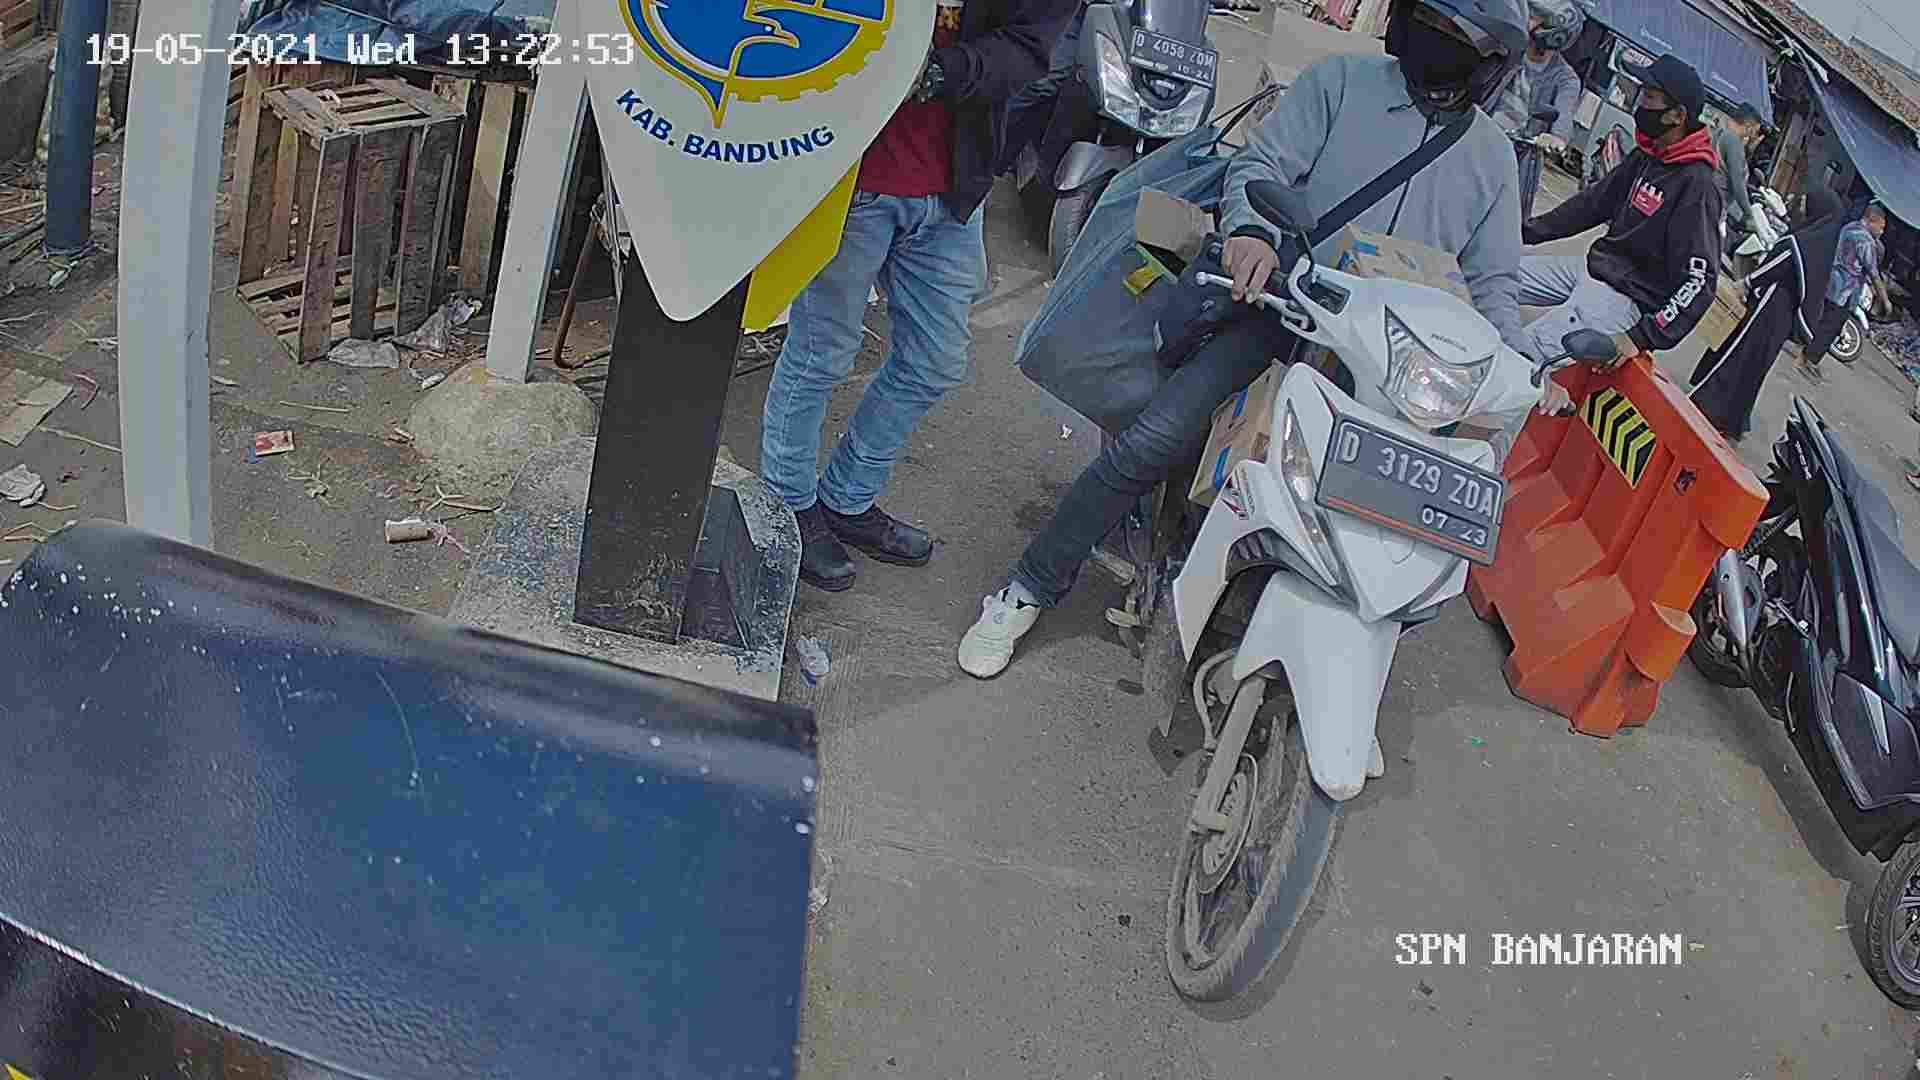motor: (1167, 224, 1530, 1031)
